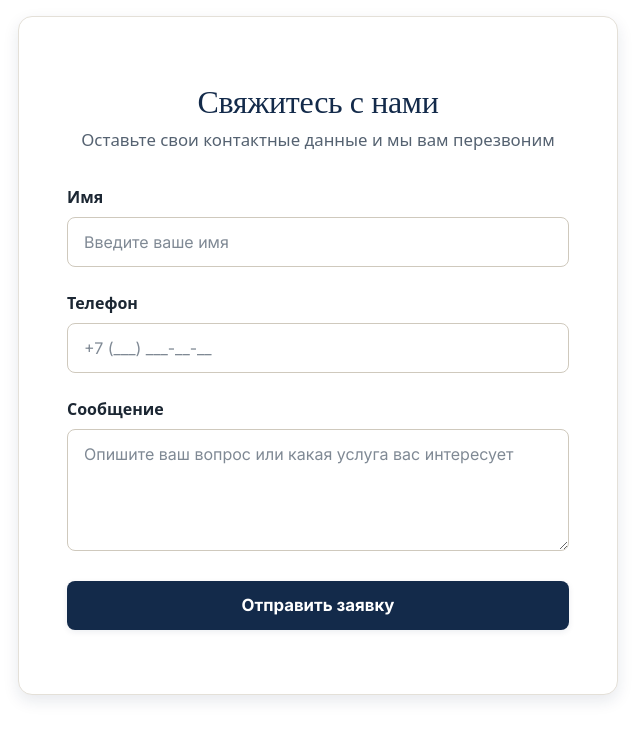
Test case: ошибка снимается сразу после исправления поля, а не после новой отправки
Click the button "Отправить заявку".
click(318, 605)  # box [67,581,569,630]
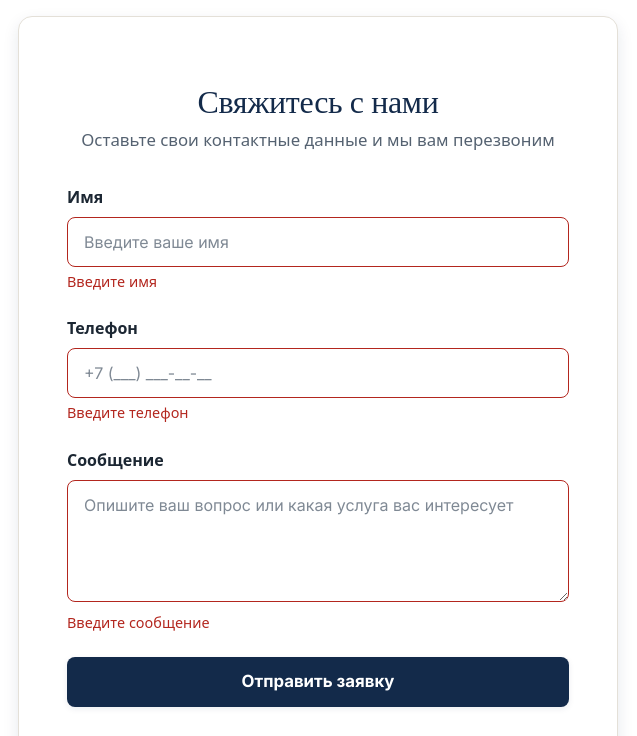
Expected: the text "Введите имя" is shown, [67,272,157,291]
Type "Иван" into the field labelled "Имя".
click(318, 242); type("Иван")  # box [67,217,569,267]
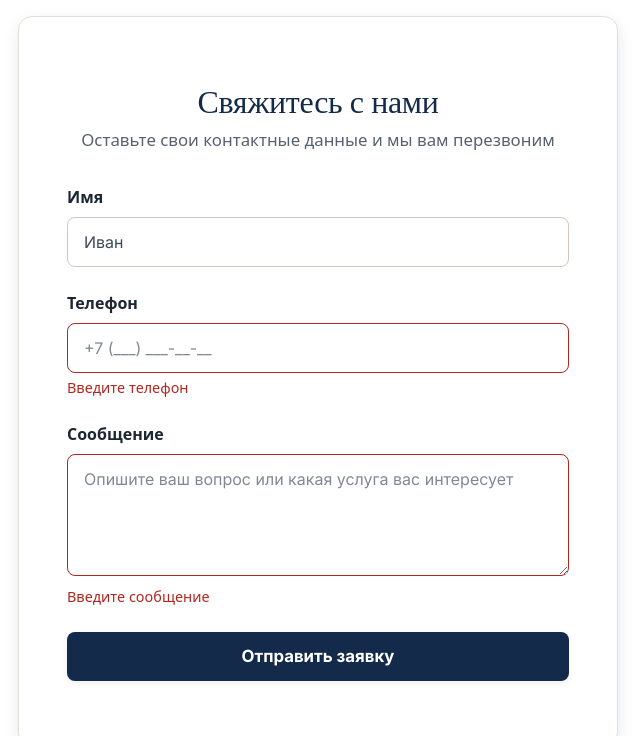
Expected: the text "Введите телефон" is shown, [67,378,188,397]
Expected: the text "Введите имя" is gone
